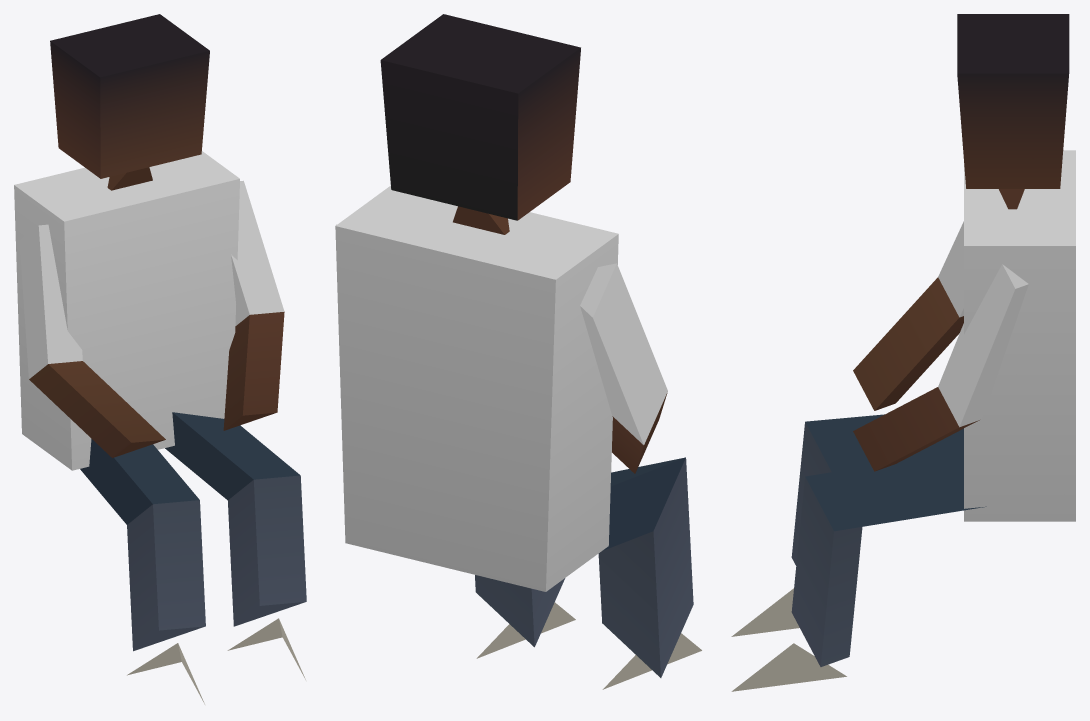
File: fan-04.glb
3 renders of one model, left to right at view 1: azimuth 30°, elevation 25°; view 2: azimuth 150°, elevation 25°; view 3: azimuth 270°, elevation 25°, orthographic. The views are drawn at different scales.
Parts seen in each view (by area): view 1: fan-04; view 2: fan-04; view 3: fan-04.
Part boxes in pixels (bbox=[...]): fan-04: bbox=[14, 14, 306, 704]; fan-04: bbox=[335, 14, 701, 689]; fan-04: bbox=[731, 14, 1075, 691].
Size of the model in its own units: 0.7075 by 1.53 by 0.77.
